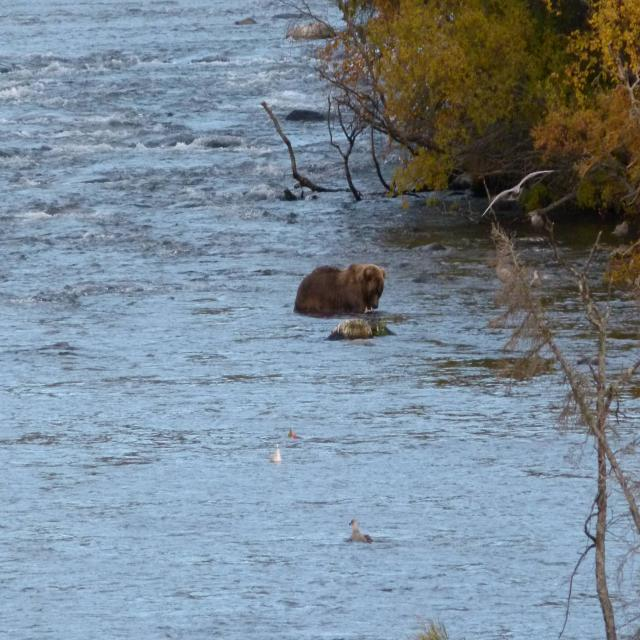bear face: (296, 262, 386, 320)
